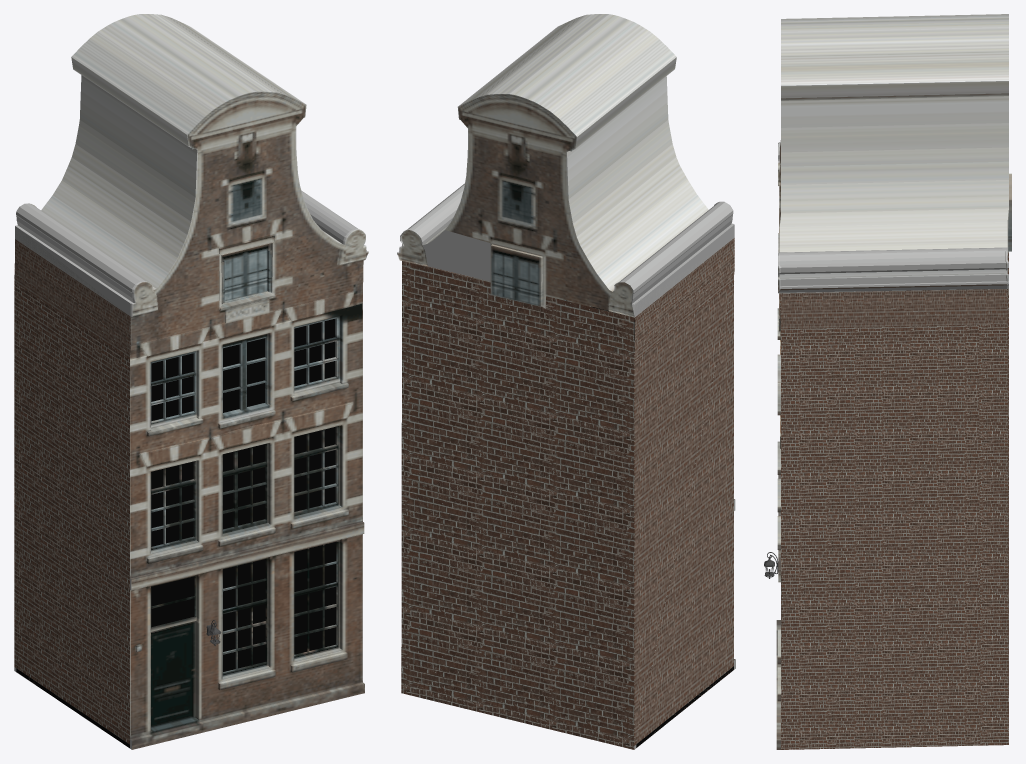
The picture shows the model from 3 angles, left to right: view 1: azimuth 30°, elevation 25°; view 2: azimuth 150°, elevation 25°; view 3: azimuth 270°, elevation 25°; orthographic projection. The views are drawn at different scales.
Visible parts, largest first — view 1: Amsterdam canal house by JJ; view 2: Amsterdam canal house by JJ; view 3: Amsterdam canal house by JJ.
Part boxes in pixels (x1,y1,x2,y2): Amsterdam canal house by JJ: (14,14,368,749); Amsterdam canal house by JJ: (397,14,735,749); Amsterdam canal house by JJ: (776,14,1011,749).
Size of the model in its own units: 1.78 by 4.33 by 1.47.
4 materials, 2 textured.
